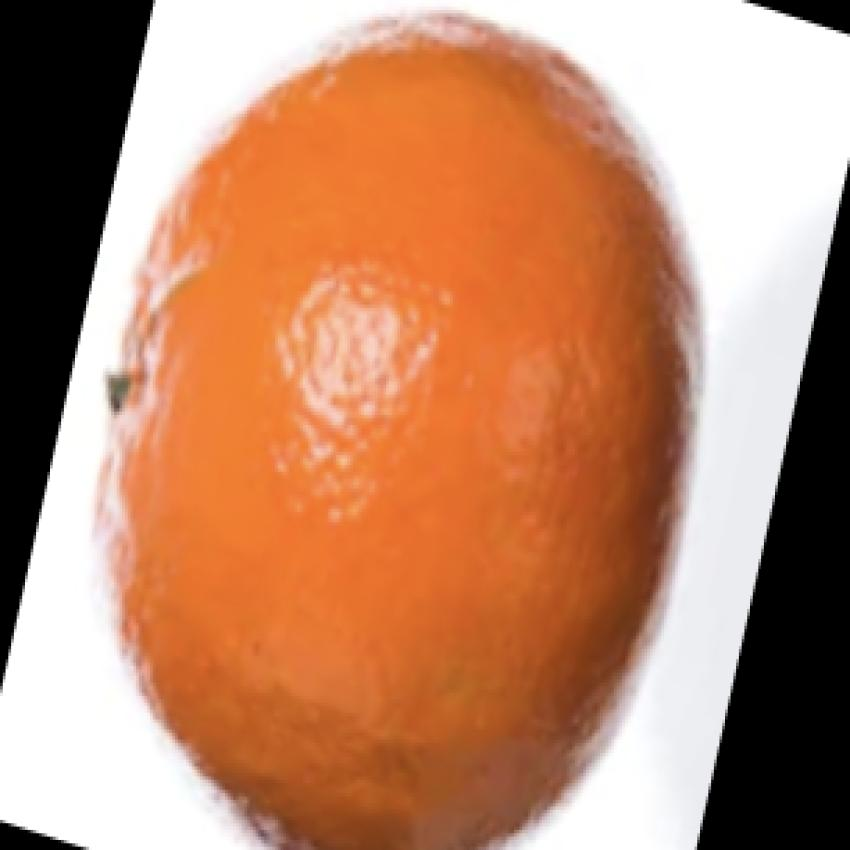Buen estado: (92, 0, 705, 843)
